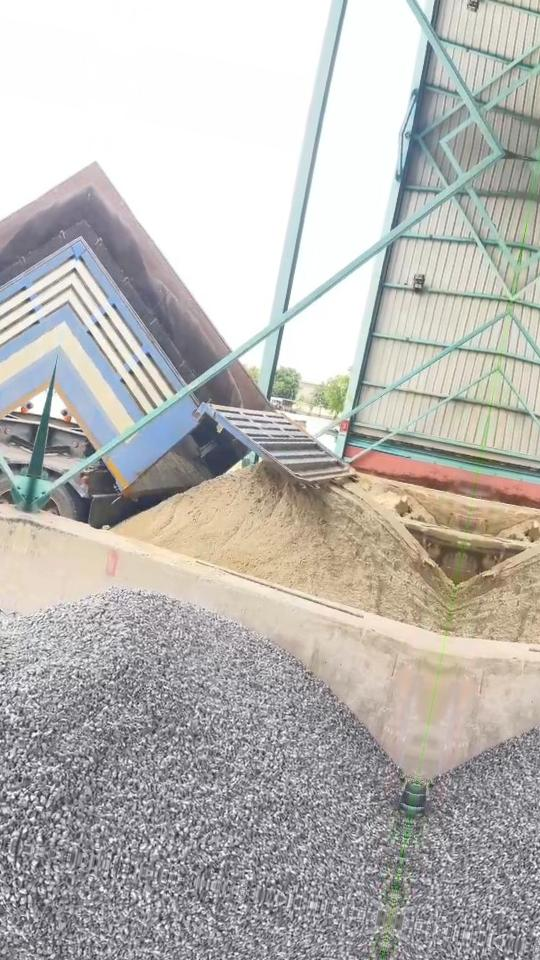gravel: (0, 589, 406, 916)
sand: (113, 464, 453, 630), (357, 480, 462, 535)
